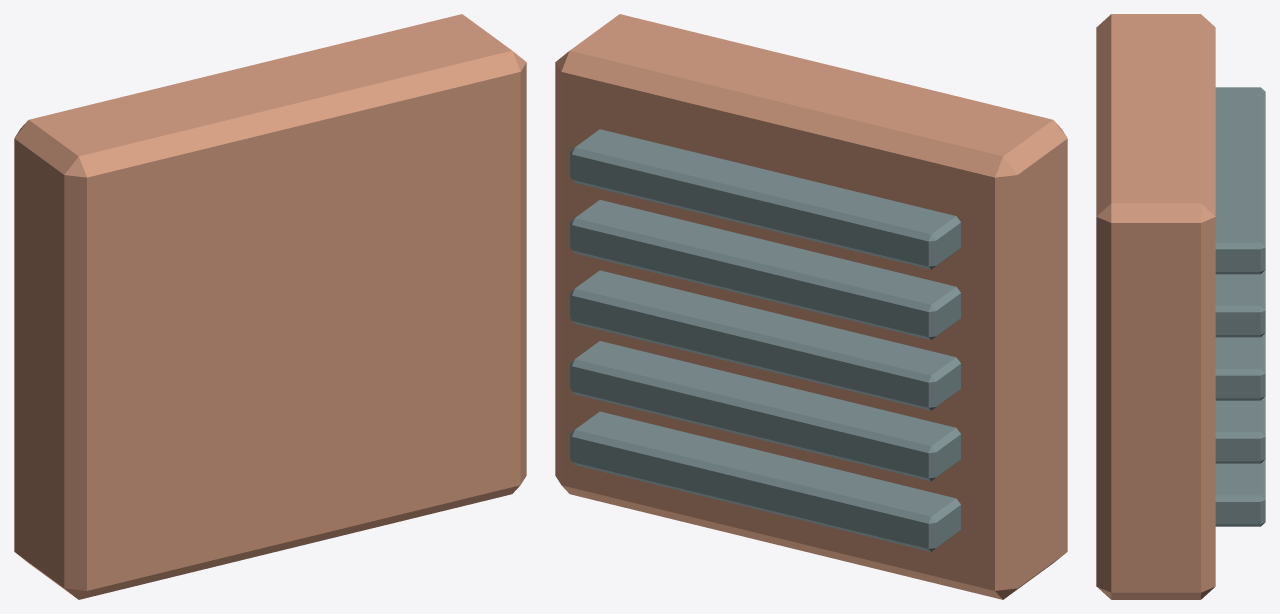
File: vent.glb
3 views of the same model, side by side, from view 1: azimuth 30°, elevation 25°; view 2: azimuth 150°, elevation 25°; view 3: azimuth 270°, elevation 25° (orthographic). The views are drawn at different scales.
Visible parts, largest first — view 1: vent; view 2: vent; view 3: vent.
Part boxes in pixels (x1,y1,x2,y2): vent: [14, 14, 526, 599]; vent: [555, 14, 1067, 599]; vent: [1096, 14, 1265, 599].
Bounding box in the file's own units: 0.48 × 0.44 × 0.17.
